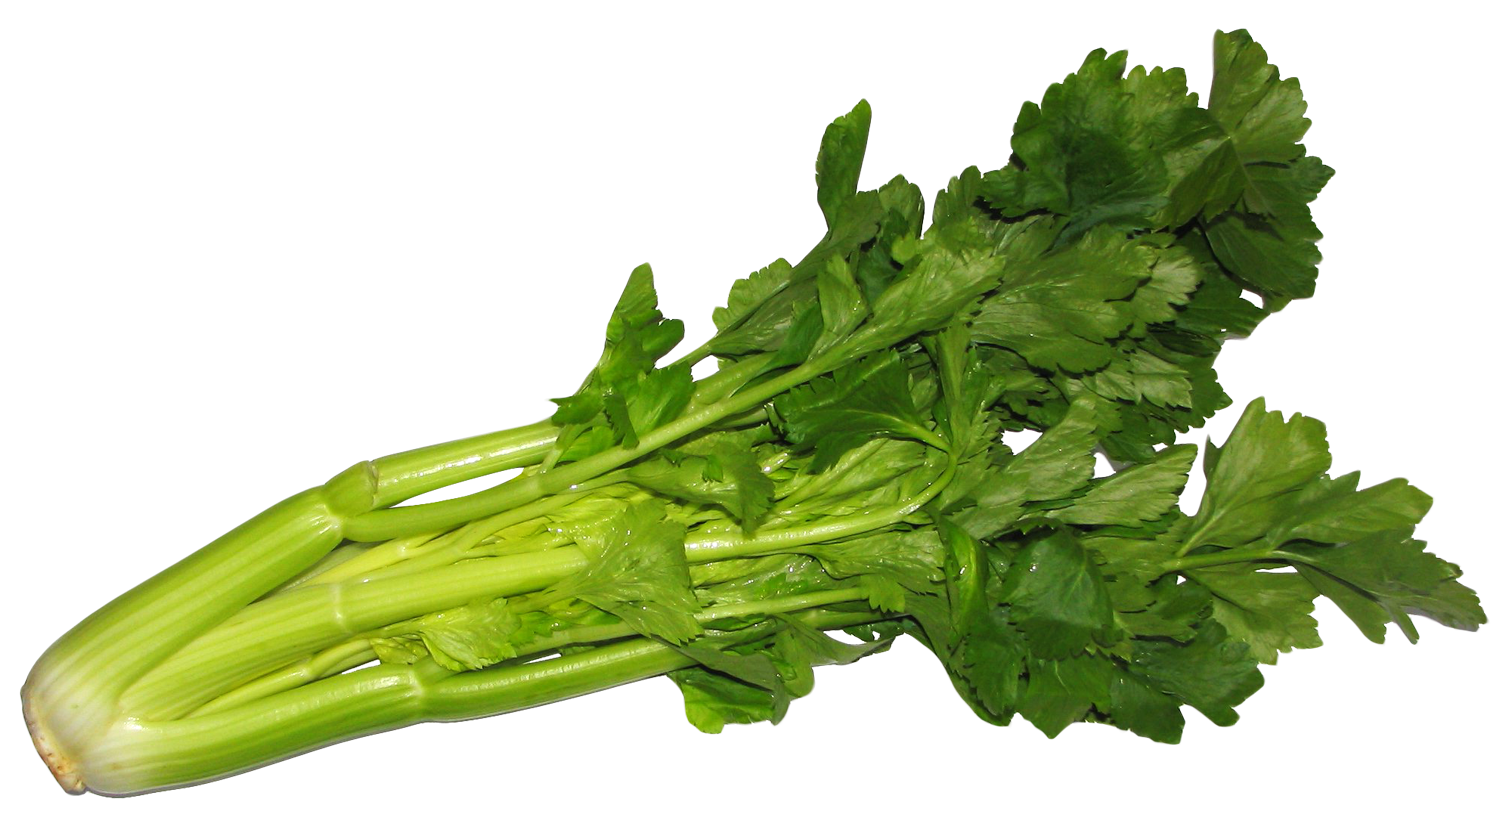Seledri: (104, 192, 1512, 800)
